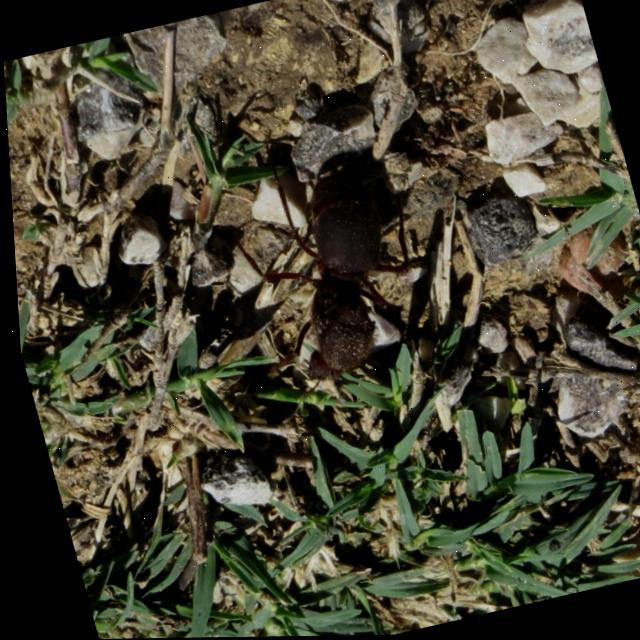Alive-Female-Dealate: (204, 113, 451, 426)
